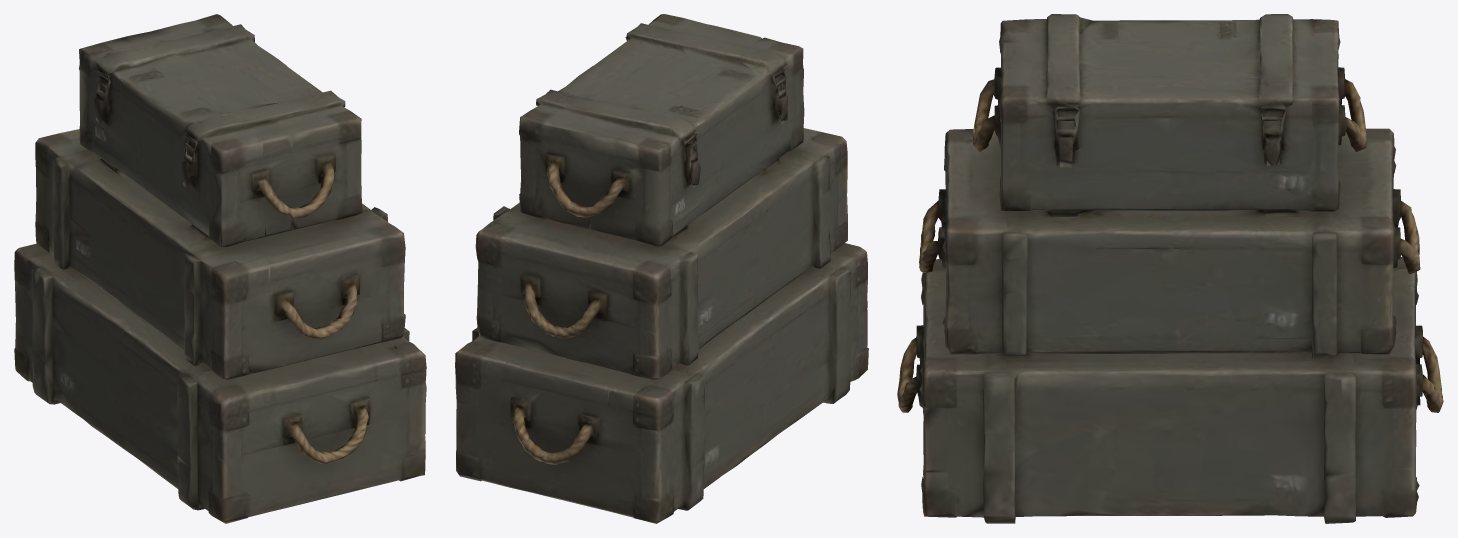
The model's file is prop_crates.glb.
3 renders of one model, left to right at view 1: azimuth 30°, elevation 25°; view 2: azimuth 150°, elevation 25°; view 3: azimuth 270°, elevation 25°, orthographic. The views are drawn at different scales.
Visible parts, largest first — view 1: tripo_node_988d9a62-5e23-4274-b84f-6b4a4bc236e3; view 2: tripo_node_988d9a62-5e23-4274-b84f-6b4a4bc236e3; view 3: tripo_node_988d9a62-5e23-4274-b84f-6b4a4bc236e3.
Boxes of the visible parts, x1,y1,x2,y2 form: tripo_node_988d9a62-5e23-4274-b84f-6b4a4bc236e3: (14,14,426,523); tripo_node_988d9a62-5e23-4274-b84f-6b4a4bc236e3: (455,14,868,523); tripo_node_988d9a62-5e23-4274-b84f-6b4a4bc236e3: (897,14,1443,523).
Bounding box in the file's own units: 0.55 × 0.8421 × 1.
Materials: 1 (1 with a texture image).
